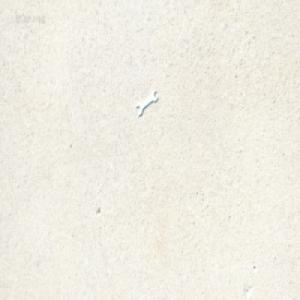Wrench: (135, 89, 158, 116)
